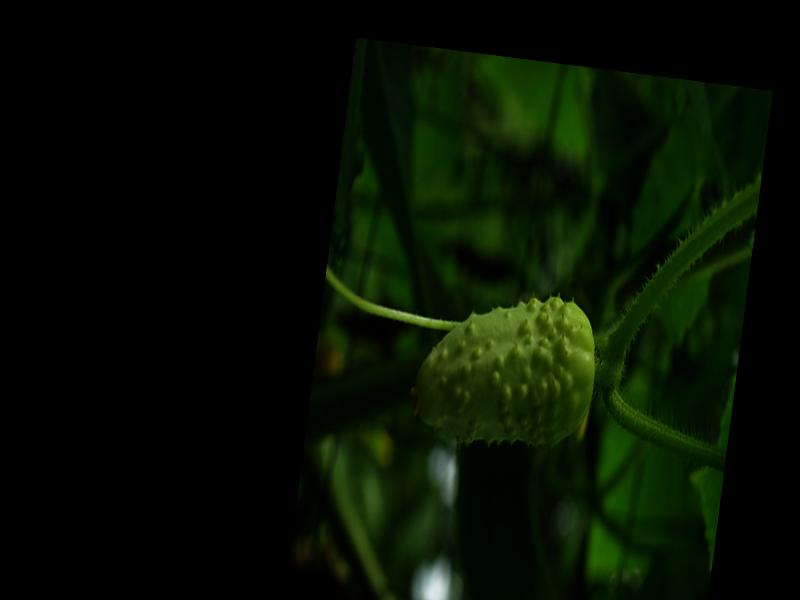Cucumber: (403, 278, 604, 455)
